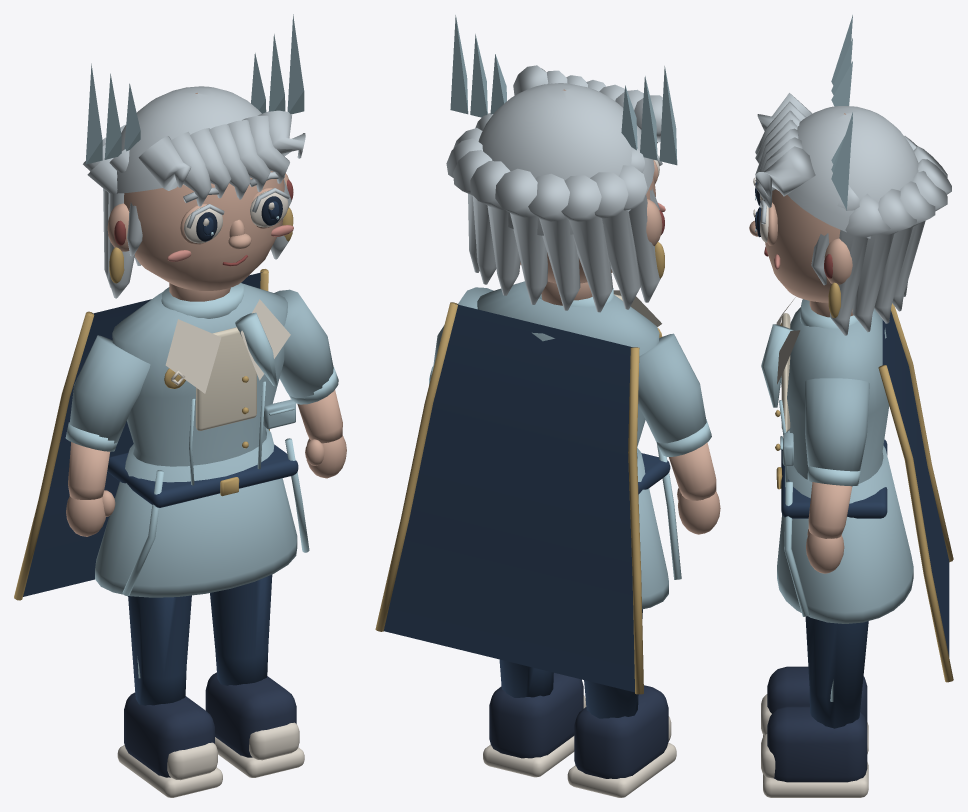
Rendered from xingyin-characters-v1__elite_frost_mystic.glb.
The picture shows the model from 3 angles, left to right: view 1: azimuth 30°, elevation 25°; view 2: azimuth 150°, elevation 25°; view 3: azimuth 270°, elevation 25°; orthographic projection. The views are drawn at different scales.
Parts seen in each view (by area): view 1: figure.014; view 2: figure.014; view 3: figure.014.
Part boxes in pixels (x1,y1,x2,y2): figure.014: (14, 14, 346, 797); figure.014: (375, 15, 720, 797); figure.014: (749, 15, 953, 797).
Size of the model in its own units: 1.07 by 2.63 by 0.6917.
